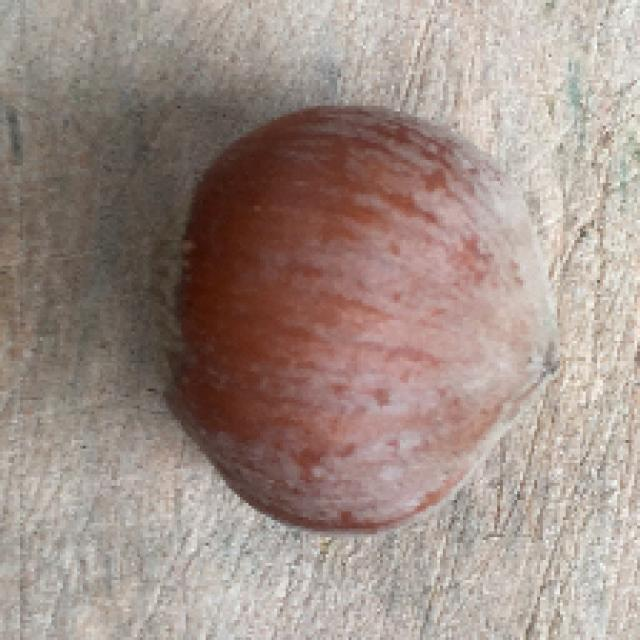qualityHazelnut: (152, 93, 568, 538)
